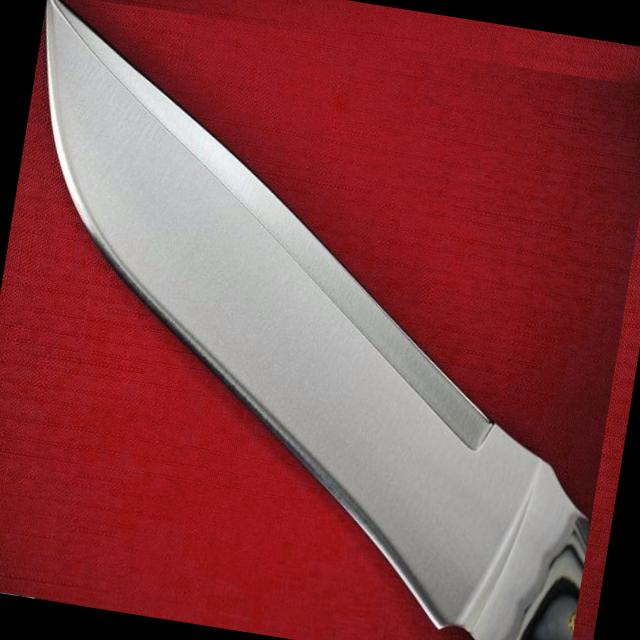Knife: (47, 0, 591, 640)
